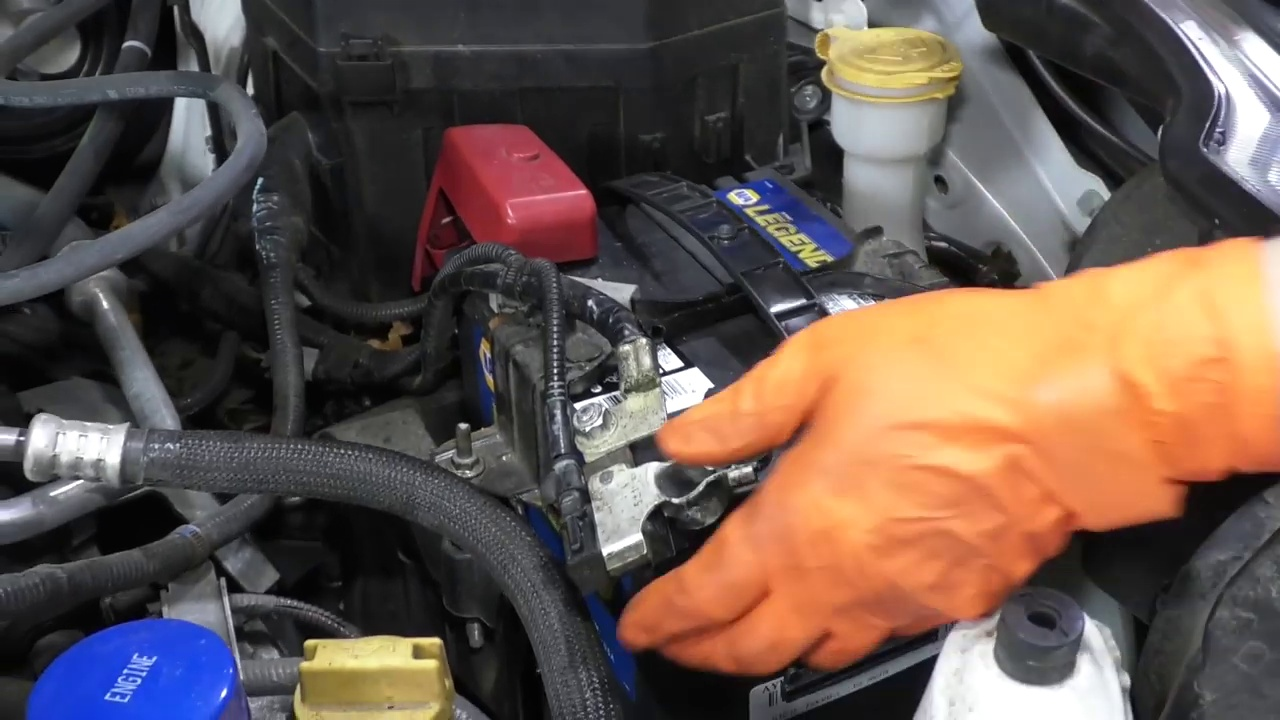battery: (424, 156, 967, 537)
pos_connected: (390, 114, 619, 279)
